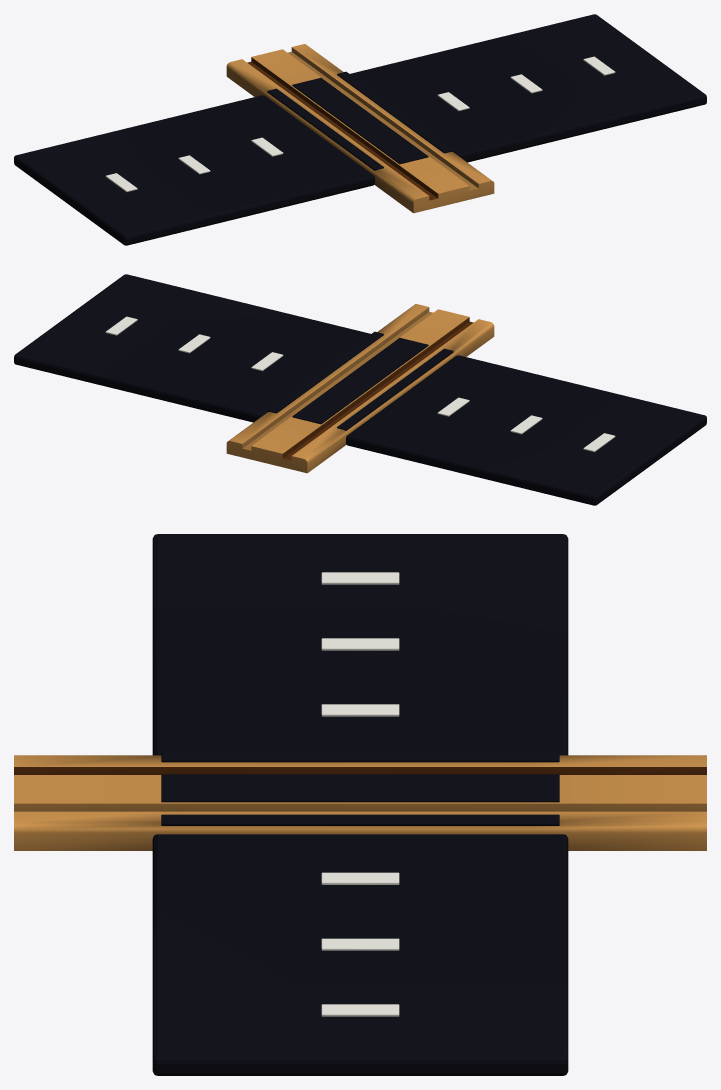
The model's file is Crossing.fbx.
3 views of the same model, one above another, from view 1: azimuth 30°, elevation 25°; view 2: azimuth 150°, elevation 25°; view 3: azimuth 270°, elevation 25° (orthographic). The views are drawn at different scales.
Parts seen in each view (by area): view 1: Crossing; view 2: Crossing; view 3: Crossing.
Part boxes in pixels (bbox=[...]): Crossing: bbox=[14, 14, 706, 245]; Crossing: bbox=[14, 274, 706, 505]; Crossing: bbox=[14, 534, 706, 1075].
Size of the model in its own units: 7.2 by 0.173 by 4.
